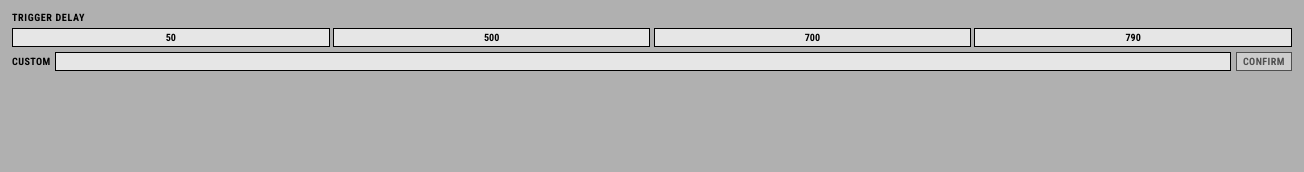
Test: PresetNumberInput › disables Confirm again when the custom field is cleared
This screenshot has width=1304, height=172.
Type "790" into the number field labelled "Custom" at {"x": 643, "y": 61}, box [55, 52, 1231, 71]
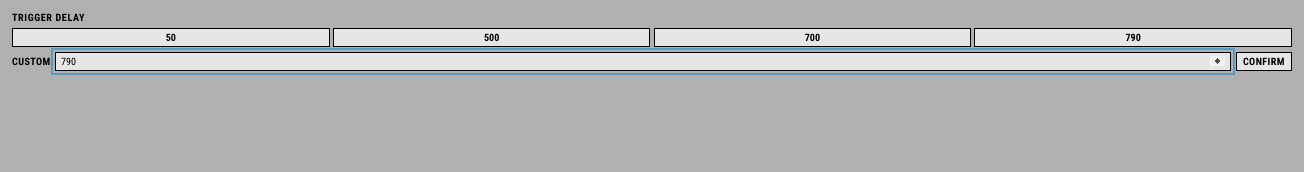
Expected: the button "Confirm" is enabled, [1236, 52, 1292, 71]
Clear the number field labelled "Custom" at {"x": 643, "y": 61}, box [55, 52, 1231, 71]
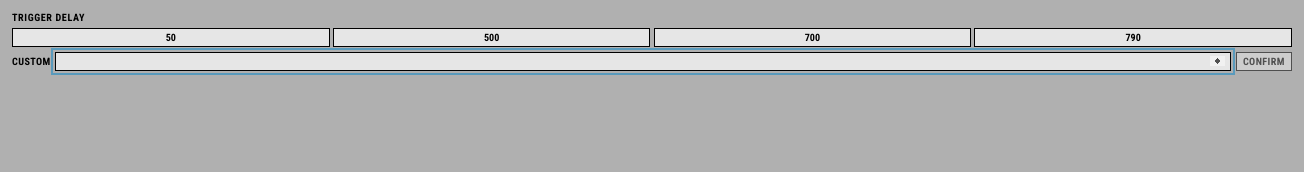
Expected: the button "Confirm" is disabled, [1236, 52, 1292, 71]
